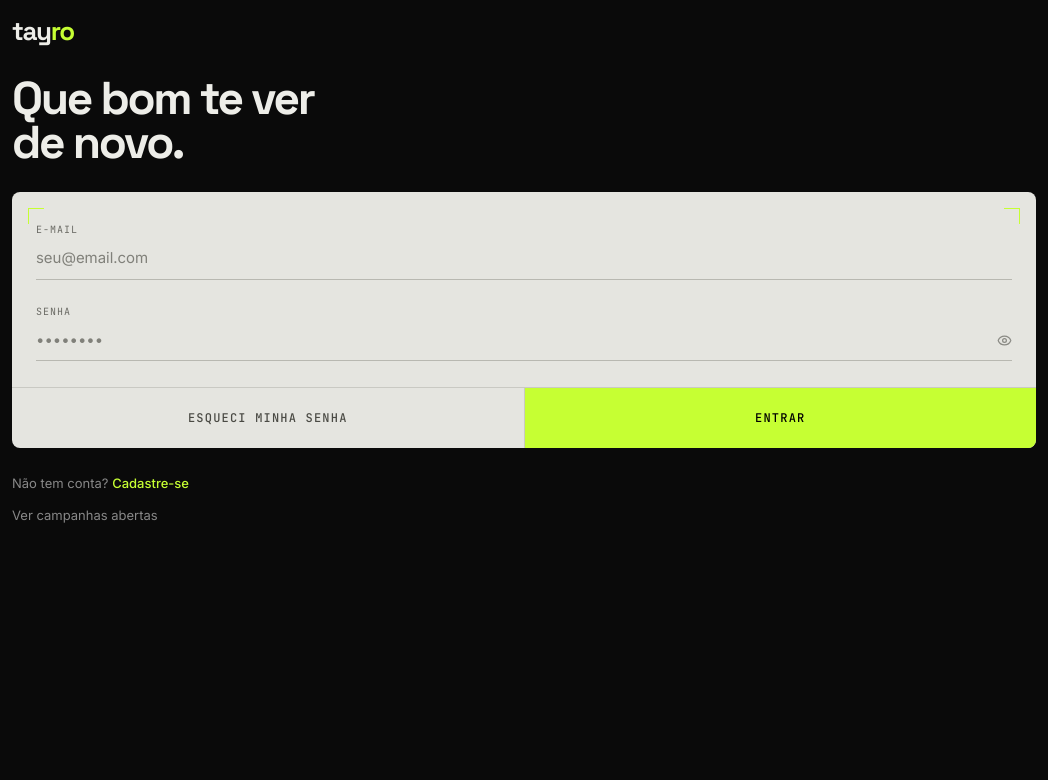
Test case: LoginPage › sem response = sem conexão (a request não chegou ao servidor)
This screenshot has width=1048, height=780.
Type "a@b.com" into the field labelled "E-mail" at (524, 259), box [36,247,1012,270]
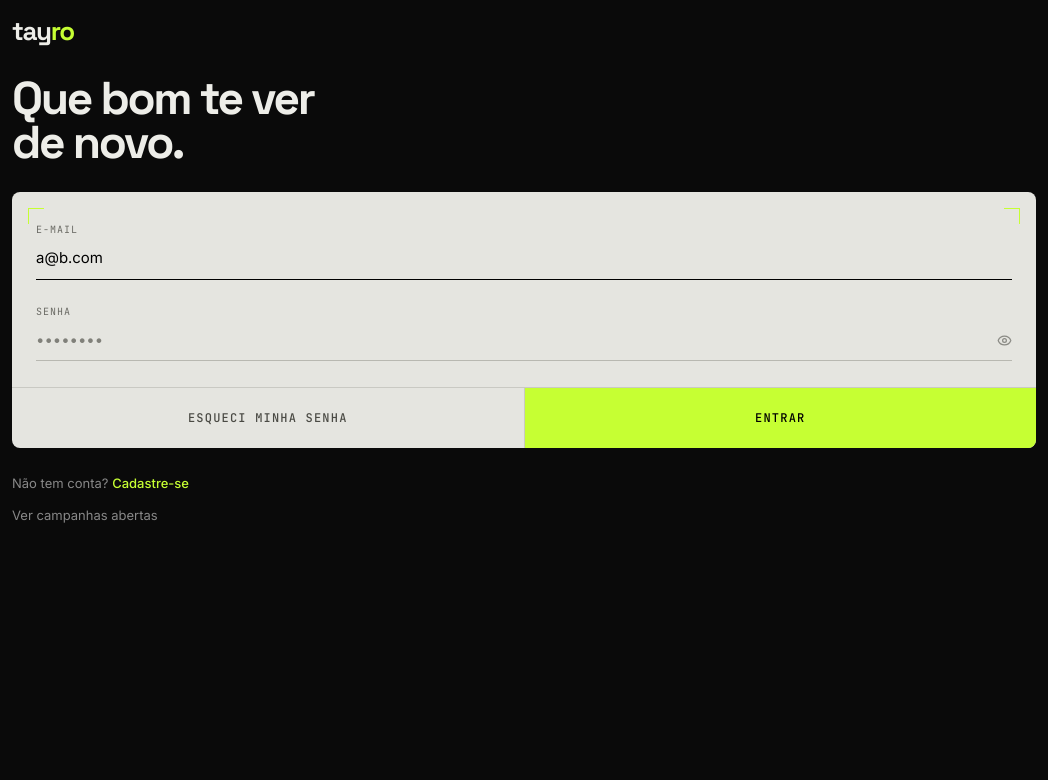
Type "segredo123" into the password field labelled "Senha" at (512, 340), box [36,329,987,351]
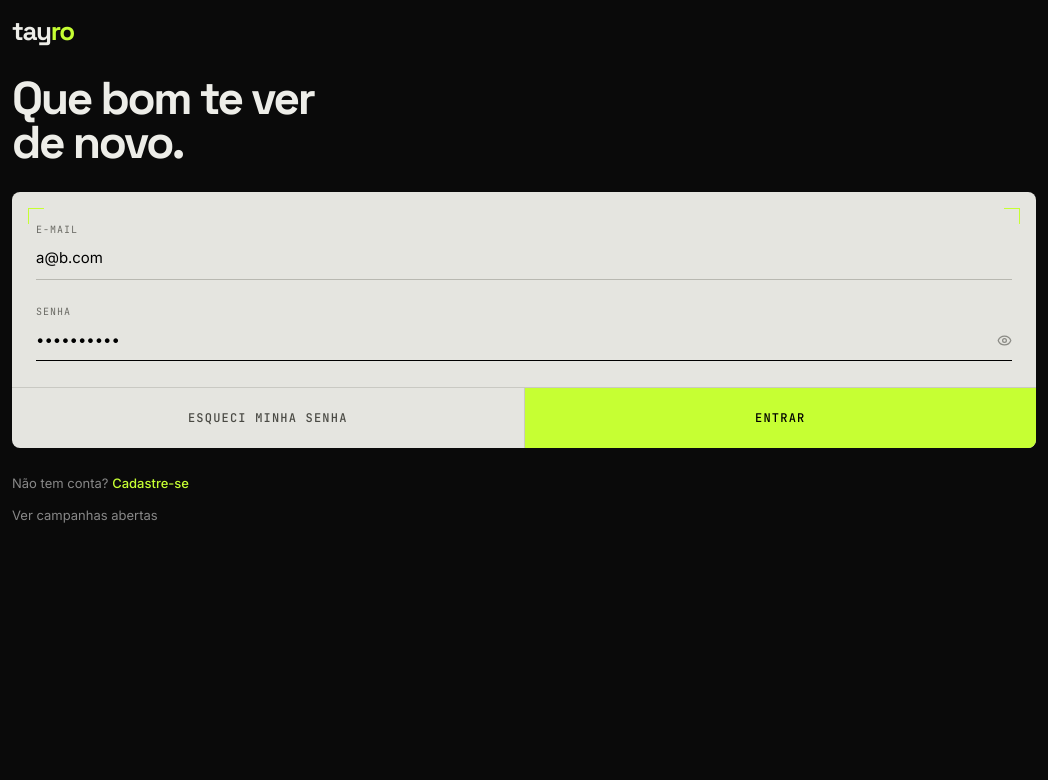
Click the button "Entrar" at (780, 418), box [524,388,1036,448]
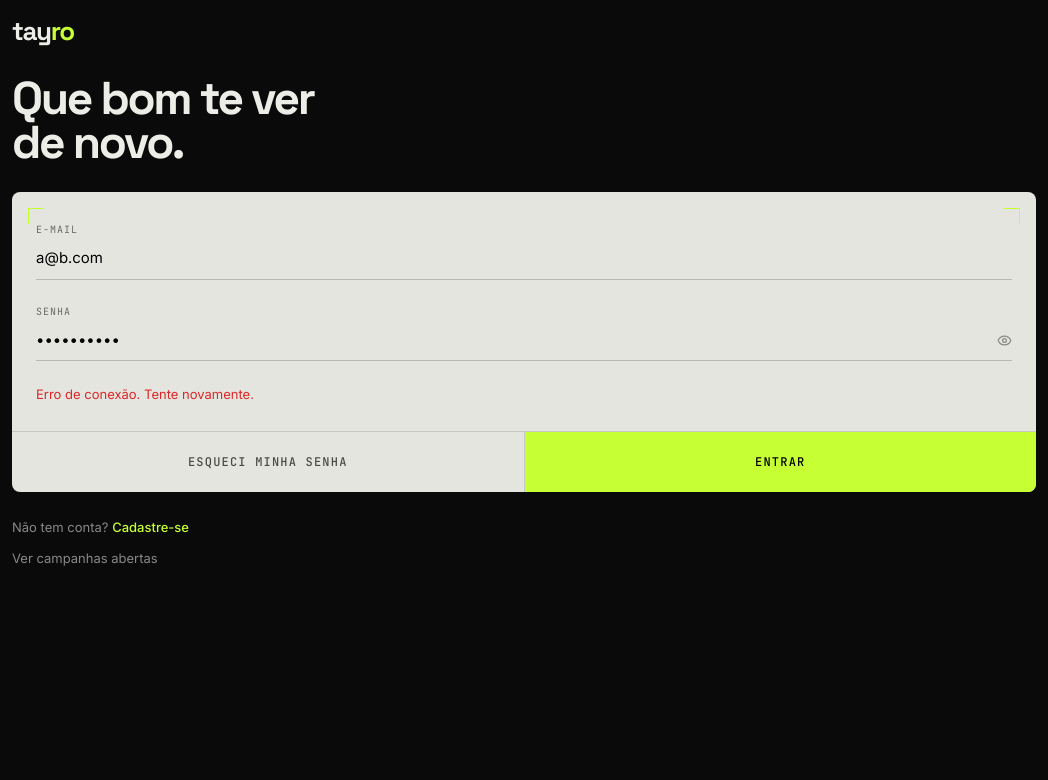
Now the text "Erro de conexão. Tente novamente." is shown, box [36,386,254,402]
